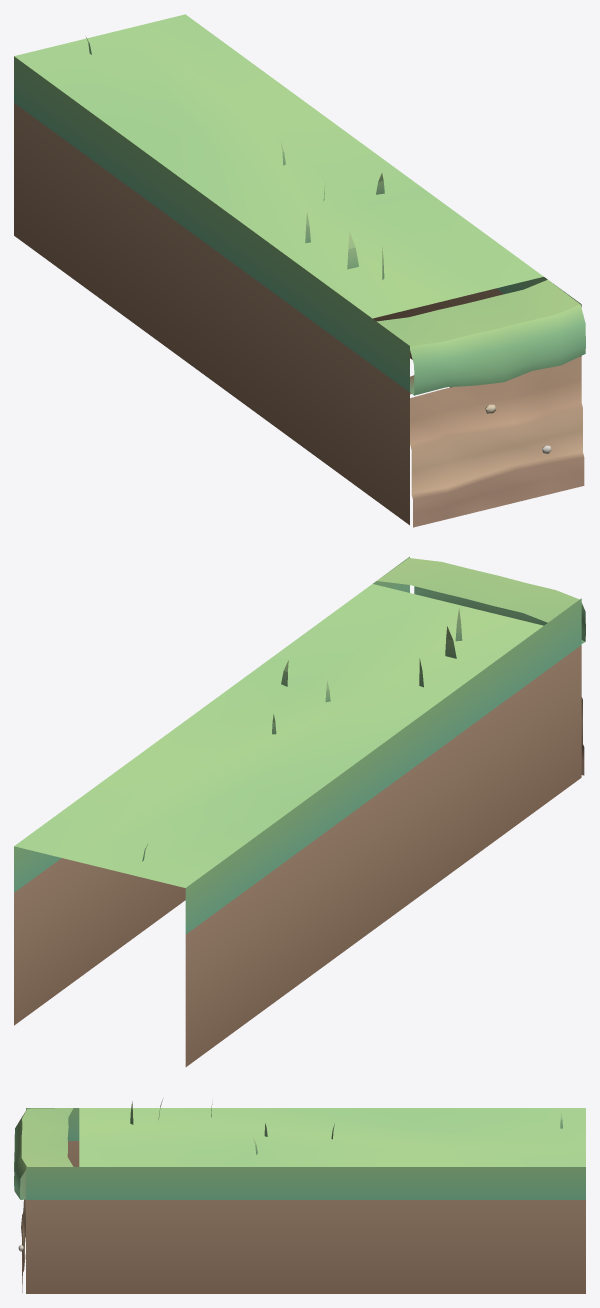
File: groundlite_grass_5.glb
3 renders of one model, top to bottom at view 1: azimuth 30°, elevation 25°; view 2: azimuth 150°, elevation 25°; view 3: azimuth 270°, elevation 25°, orthographic. The views are drawn at different scales.
Visible parts, largest first — view 1: groundlite_grass_5; view 2: groundlite_grass_5; view 3: groundlite_grass_5.
Boxes of the visible parts, x1,y1,x2,y2 form: groundlite_grass_5: (14, 14, 585, 527); groundlite_grass_5: (14, 556, 585, 1066); groundlite_grass_5: (14, 1098, 585, 1293).
Bounding box in the file's own units: 1 × 1.19 × 4.09.
